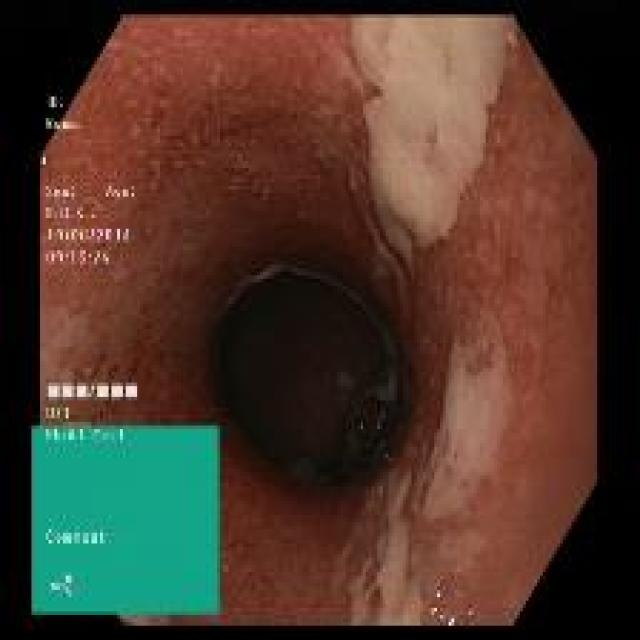ulcerative-colitis: (40, 17, 596, 623)
